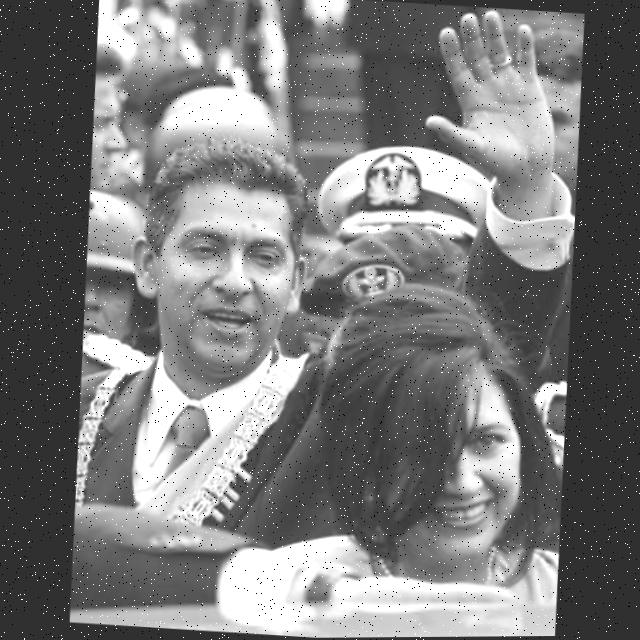face: (119, 146, 321, 381), (368, 341, 547, 582)
